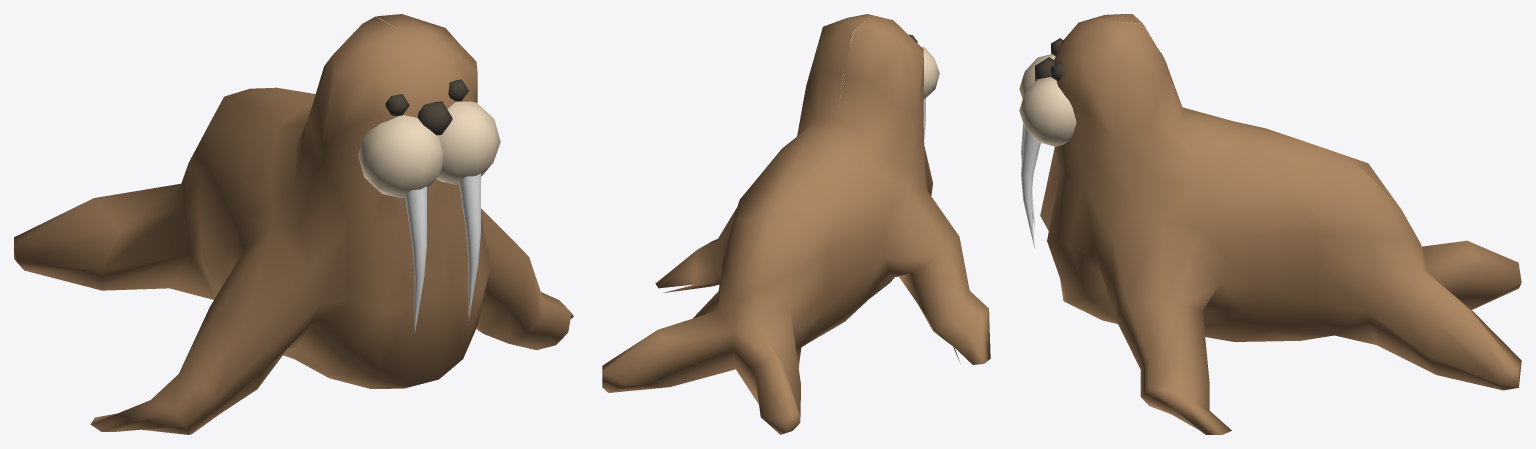
File: 5T7nIjx9ekP.glb
3 renders of one model, left to right at view 1: azimuth 30°, elevation 25°; view 2: azimuth 150°, elevation 25°; view 3: azimuth 270°, elevation 25°, orthographic. The views are drawn at different scales.
Parts seen in each view (by area): view 1: Platonic.1; view 2: Platonic.1; view 3: Platonic.1.
Boxes of the visible parts, x1,y1,x2,y2 form: Platonic.1: (14, 14, 573, 434); Platonic.1: (602, 14, 990, 434); Platonic.1: (1019, 14, 1521, 434).
Size of the model in its own units: 869 by 685 by 972.
